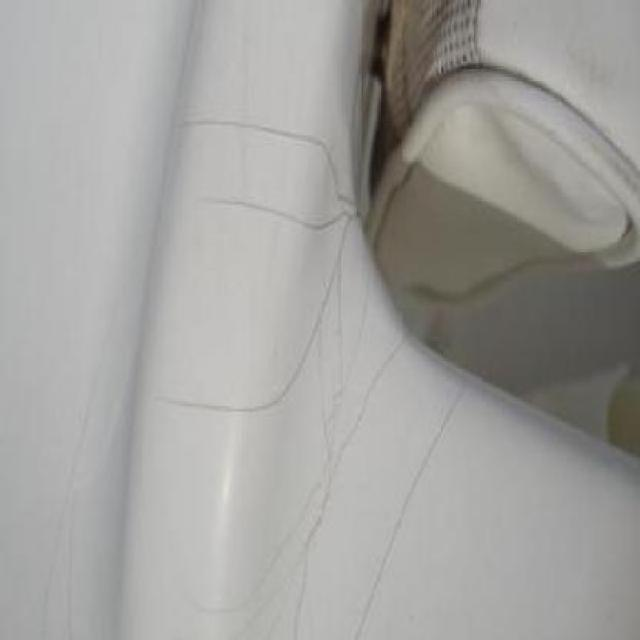crack: (153, 111, 360, 417), (291, 325, 415, 634), (354, 377, 471, 635)
